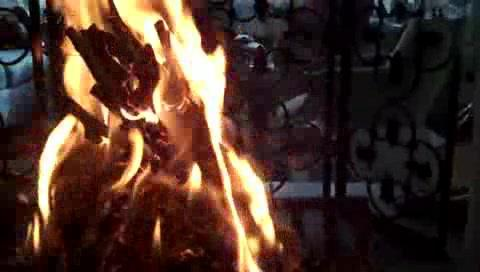fire: (43, 0, 264, 262)
